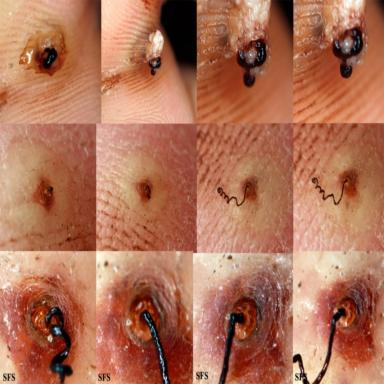Tungiasis: (96, 258, 192, 383), (203, 262, 293, 384), (0, 273, 87, 384), (1, 137, 76, 235), (312, 271, 377, 384), (312, 142, 384, 225), (217, 154, 288, 230), (228, 0, 271, 87), (120, 149, 168, 223), (323, 0, 368, 78), (313, 308, 346, 384), (35, 32, 65, 76), (146, 30, 163, 76), (293, 354, 305, 373)
